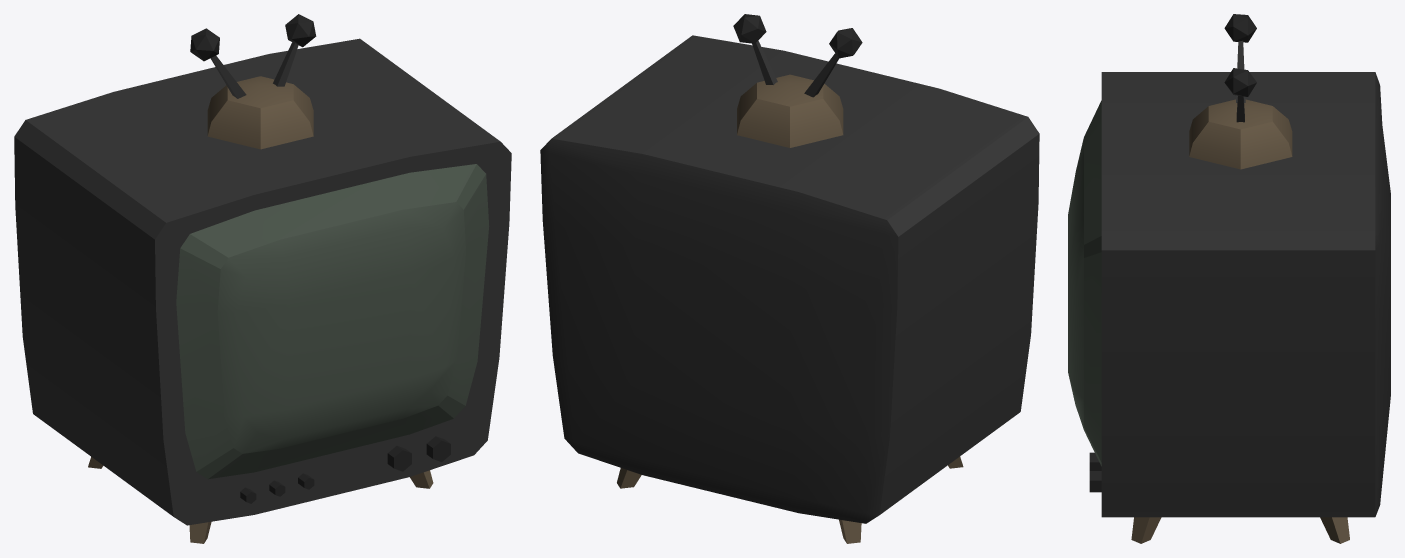
3 views of the same model, side by side, from view 1: azimuth 30°, elevation 25°; view 2: azimuth 150°, elevation 25°; view 3: azimuth 270°, elevation 25° (orthographic). The views are drawn at different scales.
Parts seen in each view (by area): view 1: pCylinder7; view 2: pCylinder7; view 3: pCylinder7.
Part boxes in pixels (left/top/right/bottom): pCylinder7: left=14, top=14, right=511, bottom=543; pCylinder7: left=540, top=14, right=1039, bottom=543; pCylinder7: left=1068, top=14, right=1390, bottom=543.
Size of the model in its own units: 3.69 by 2.98 by 4.52.
